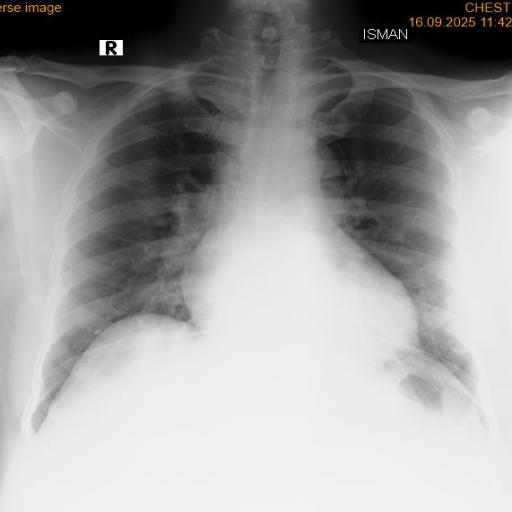kardiomegali: (18, 46, 506, 442)
